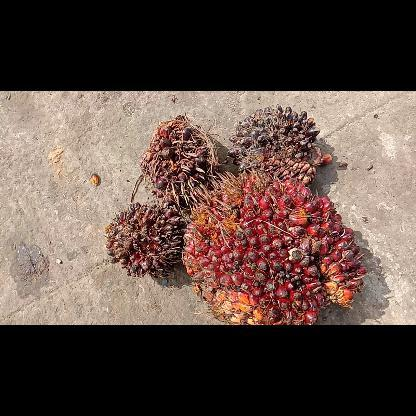TBS abnormal: (224, 103, 334, 189), (136, 111, 219, 209), (101, 199, 188, 278)
TBS masak: (180, 168, 368, 324)
